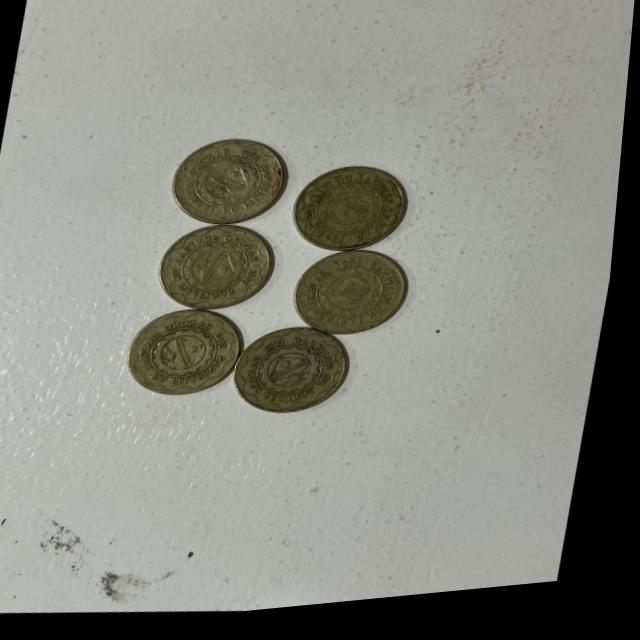5_Old_Back: (238, 322, 365, 435), (160, 134, 297, 235), (127, 302, 255, 410), (301, 153, 423, 266), (152, 217, 283, 321), (294, 247, 418, 345)
